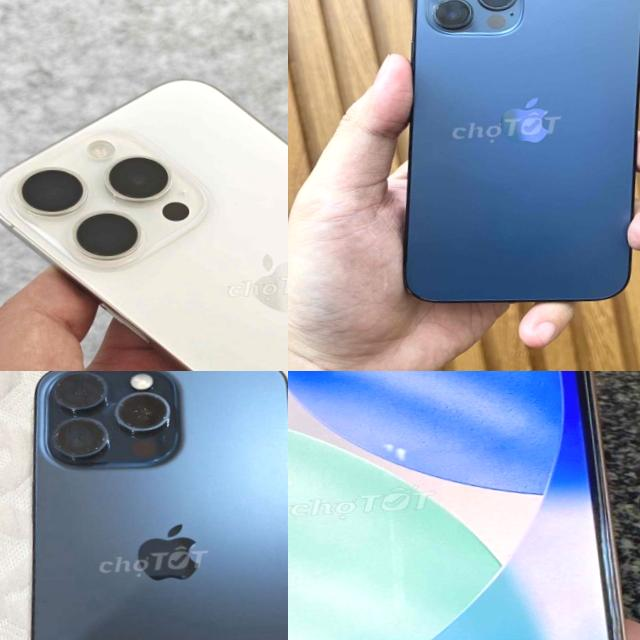scratch: (31, 371, 179, 469)
